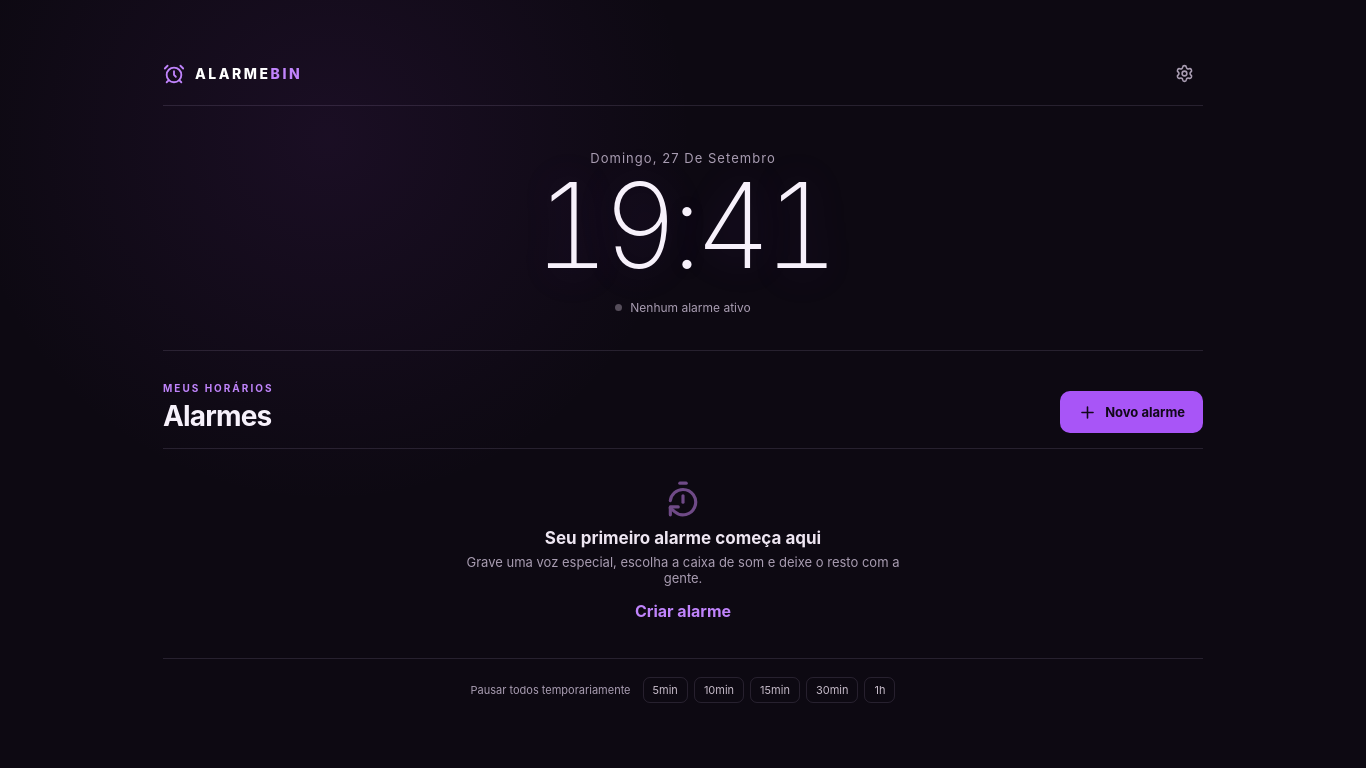
Test case: aplicativo › abre o criador e mostra validações
Expected: the heading "Seu primeiro alarme começa aqui" is shown, [545, 528, 821, 548]
Click the button "Novo alarme" at (1132, 412), box [1060, 391, 1203, 433]
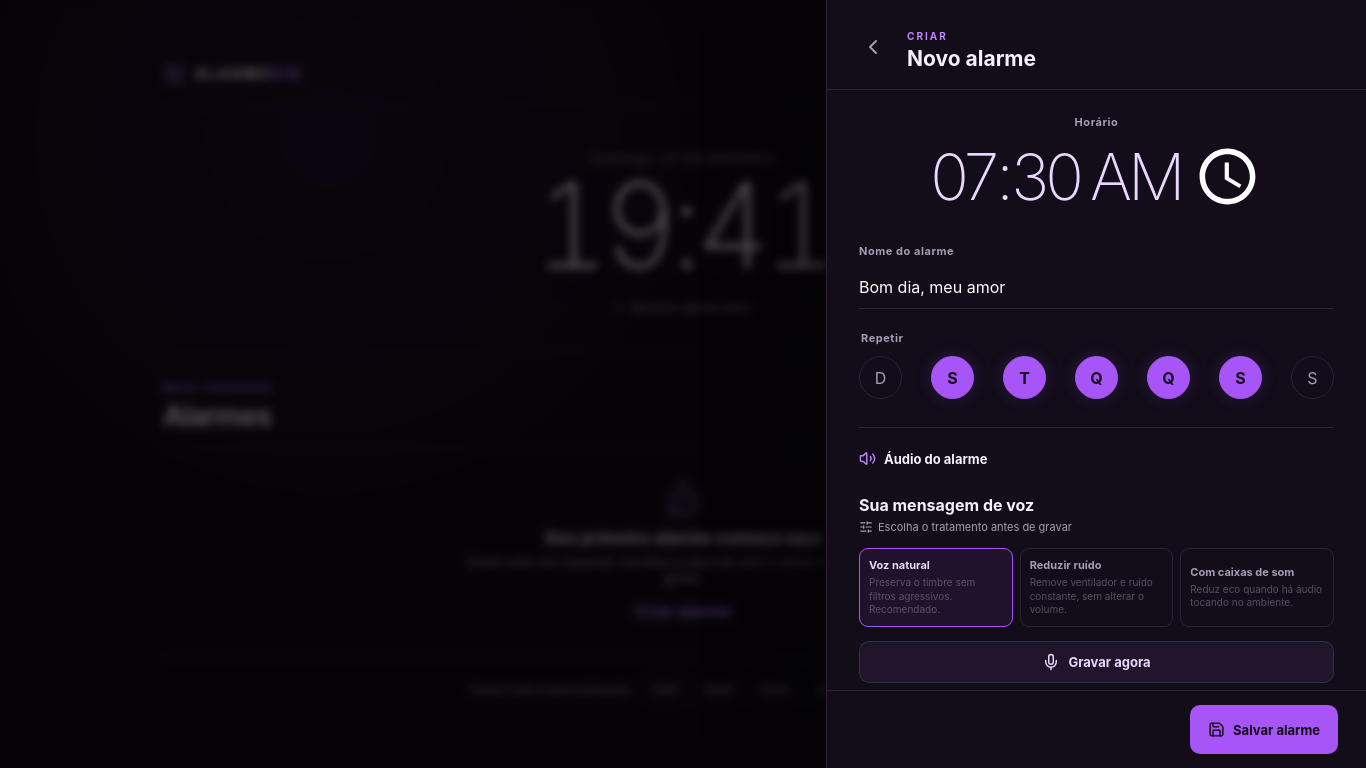
Now the element "Novo alarme" is shown, box [826, 0, 1365, 767]
Click the button "Salvar alarme" at (1264, 730), box [1190, 705, 1338, 754]
(page scrolled)
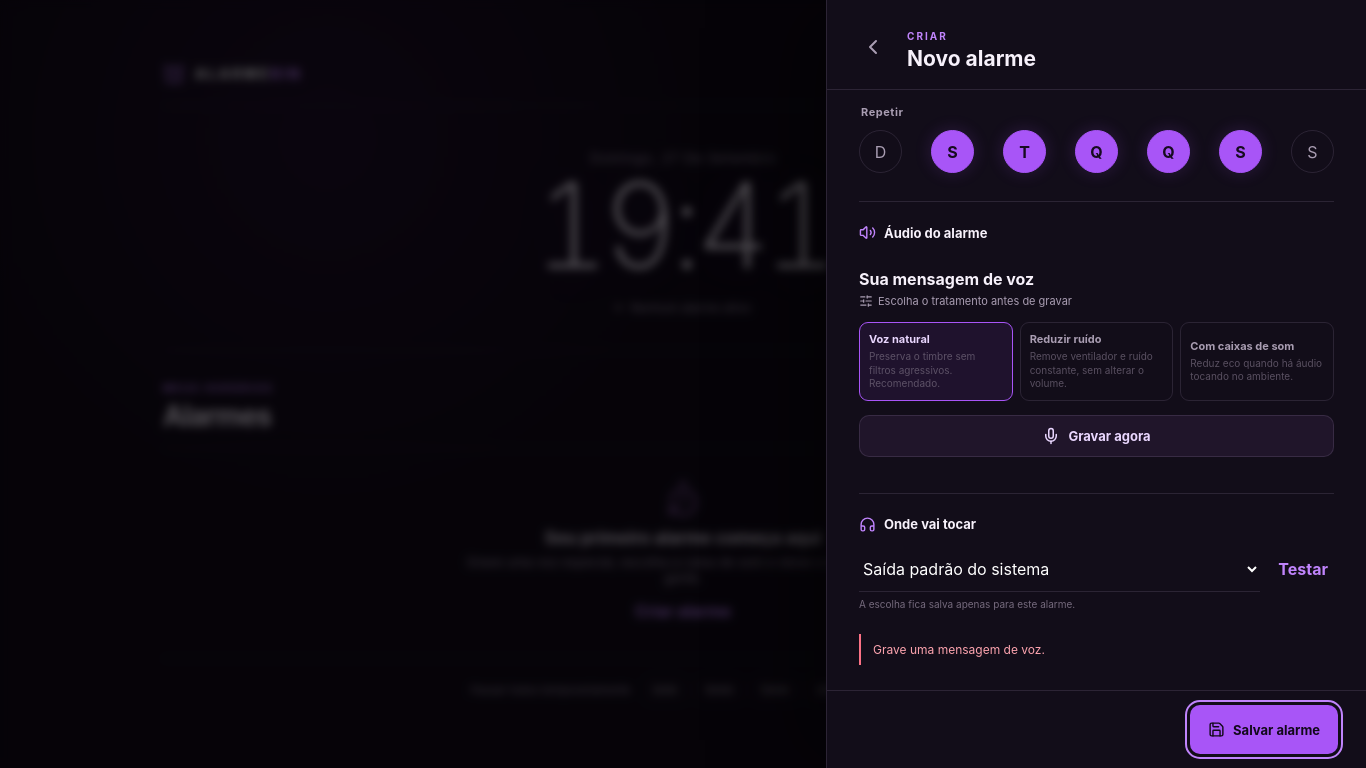
Now the message reads "Grave uma mensagem de voz.", box [873, 642, 1045, 656]
